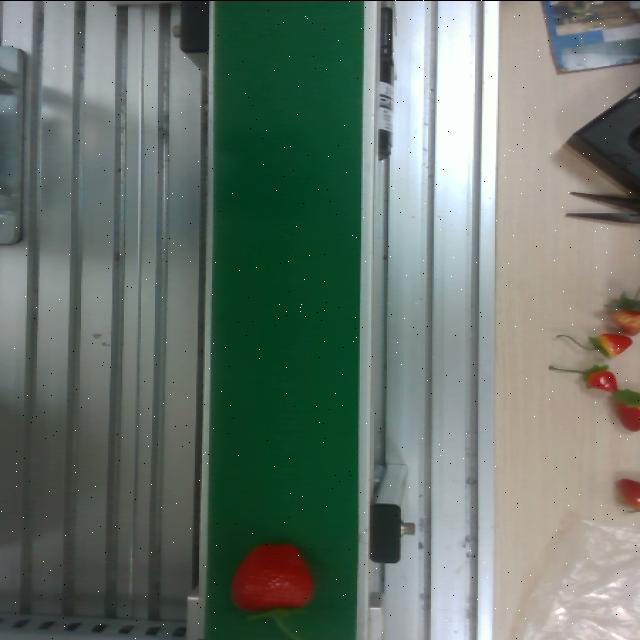Large Ripe Strawberry: (225, 539, 317, 613)
conveyor: (200, 0, 374, 640)
